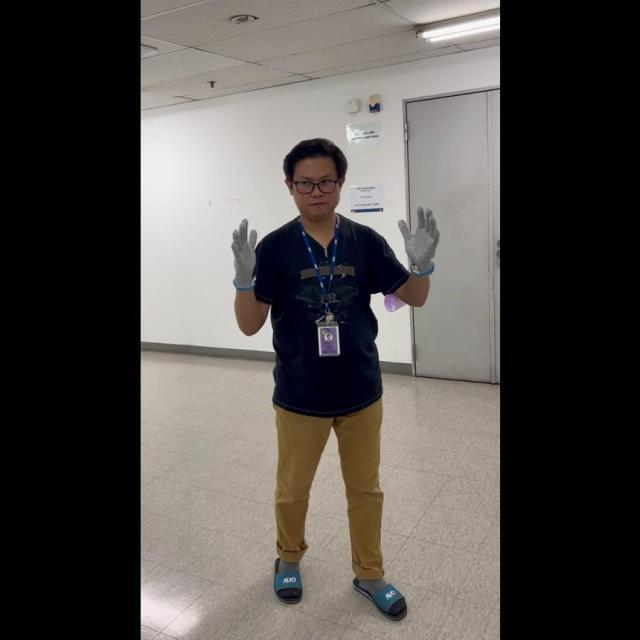gloved_hand: (395, 204, 439, 273), (228, 217, 260, 290)
